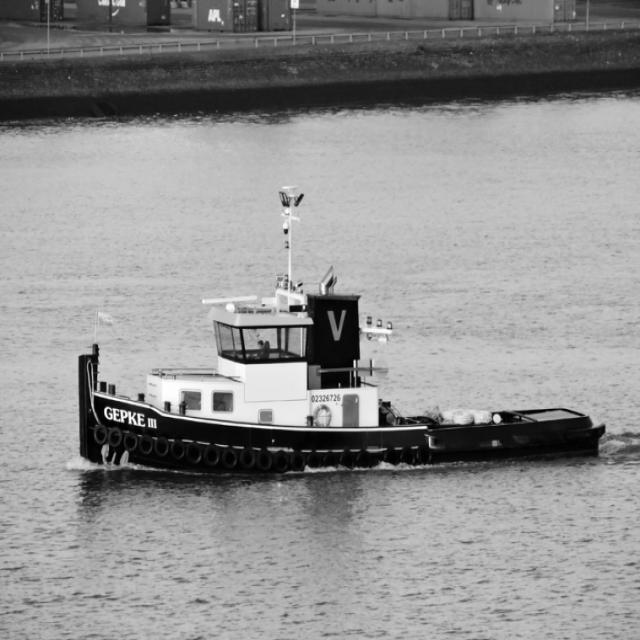tugboat: (74, 274, 613, 497)
